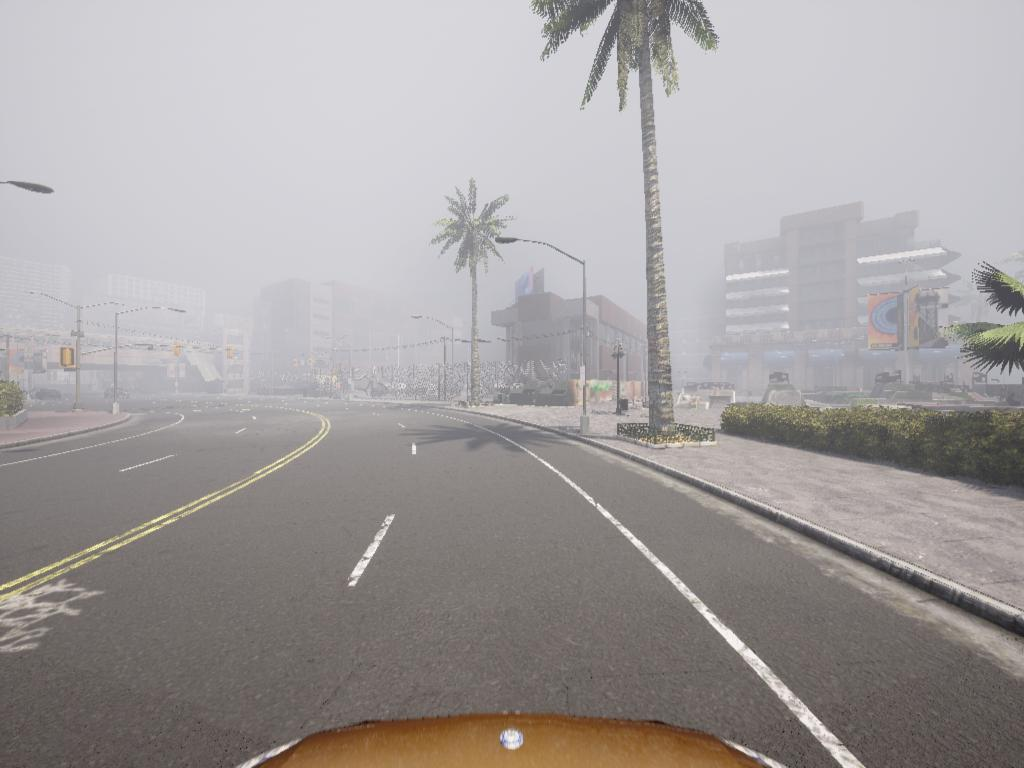traffic_light: (60, 347, 76, 373), (174, 343, 185, 360), (224, 350, 235, 361)
